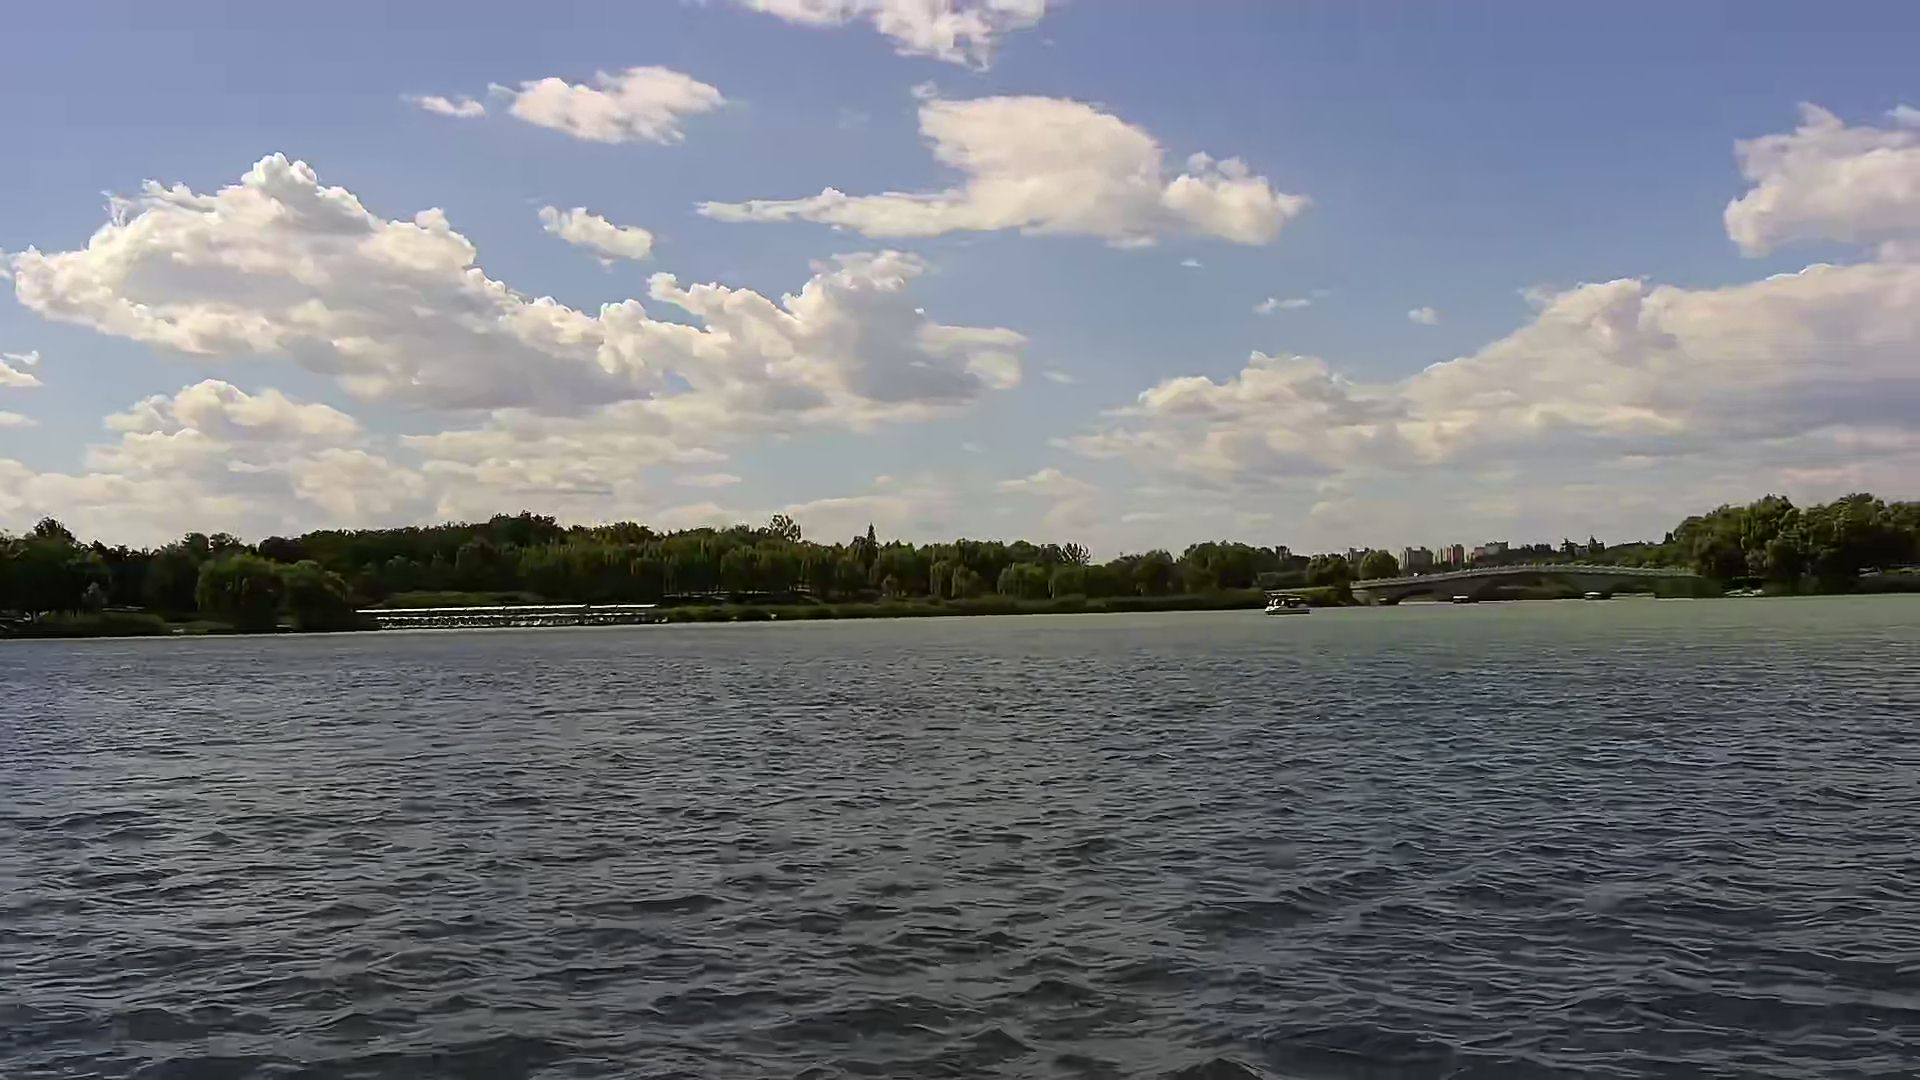boat: (1265, 589, 1313, 617)
bridge: (1335, 567, 1683, 607), (371, 607, 658, 625)
